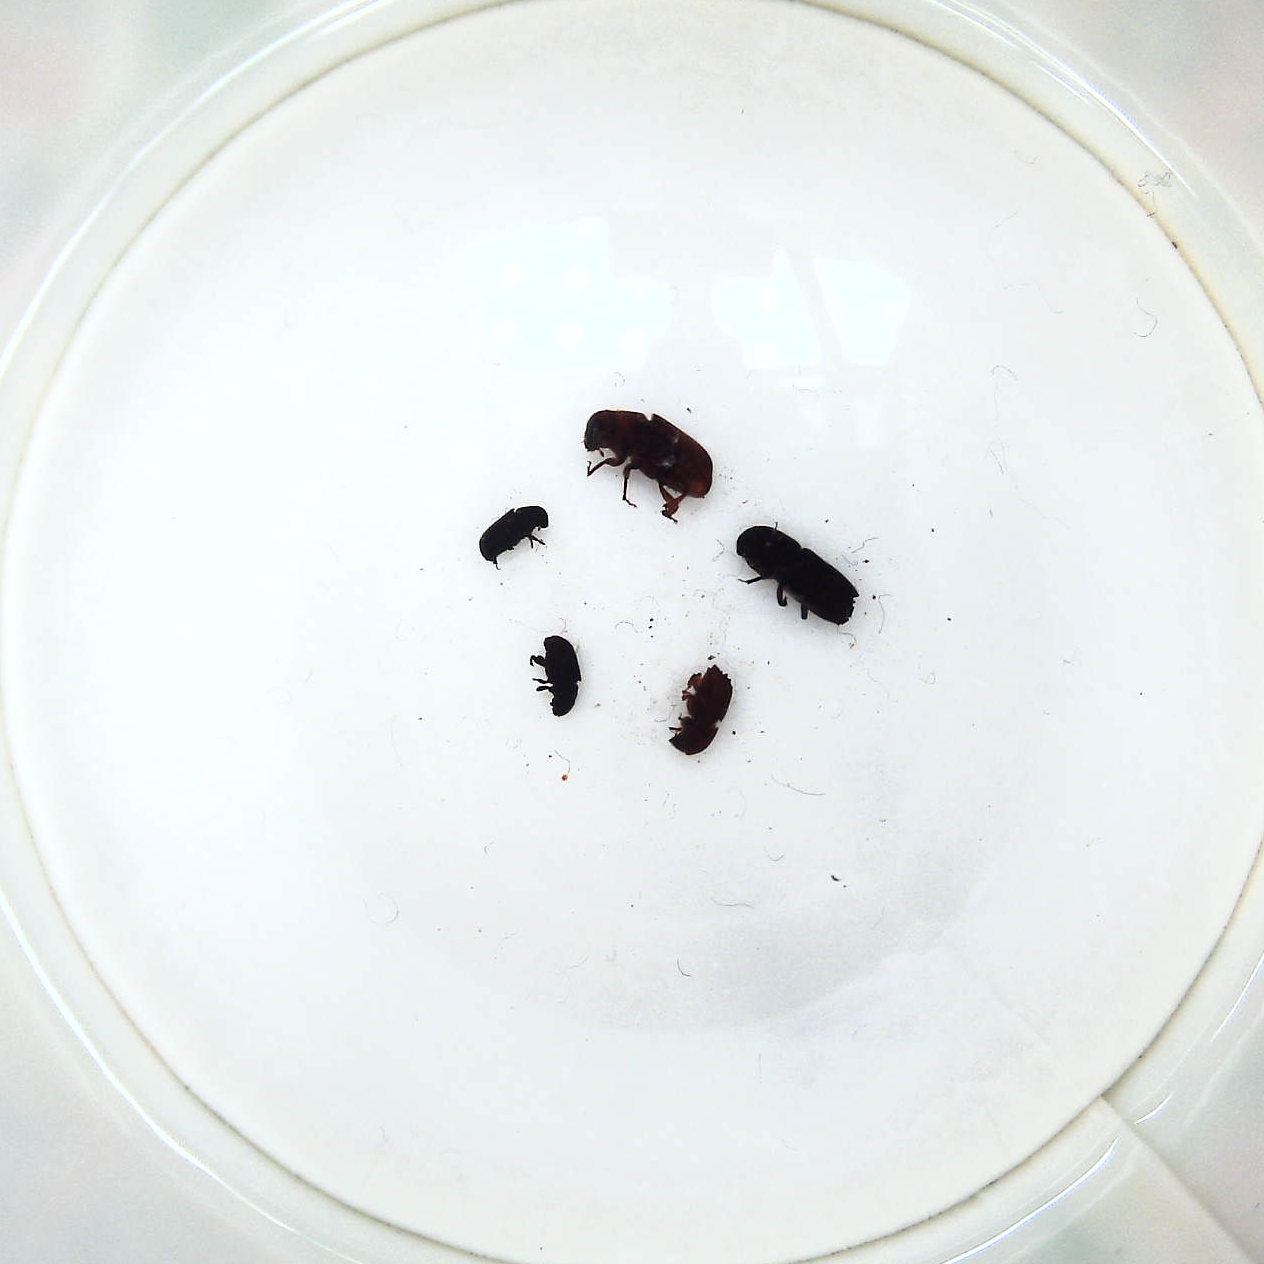Boerner: (733, 519, 860, 635)
Leconte: (576, 406, 721, 530)
armandi: (528, 629, 587, 725)
coleoptera: (475, 504, 558, 569)
linnaeus: (667, 659, 743, 759)
